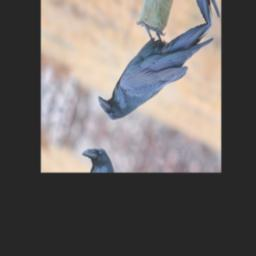Crow: (93, 0, 217, 157)
